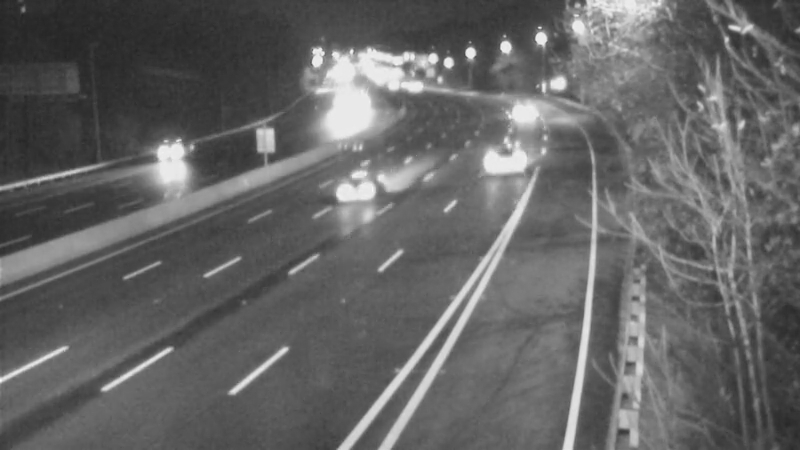vehicle: (472, 122, 552, 202), (308, 147, 388, 227), (132, 119, 212, 199), (489, 85, 539, 135)
